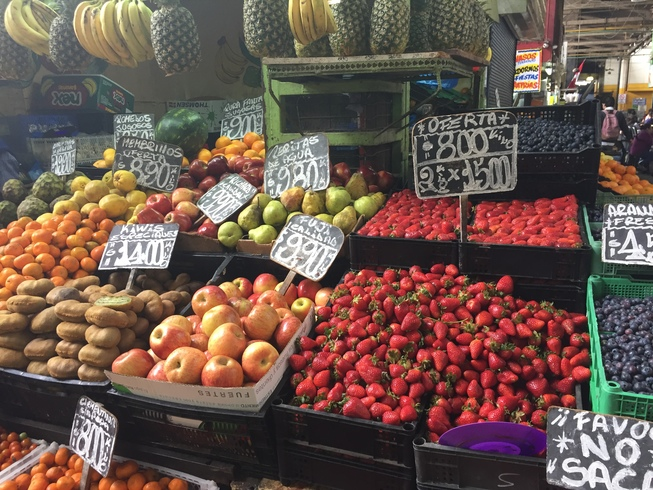manzana: (165, 346, 206, 385), (200, 356, 242, 391), (150, 324, 194, 357), (240, 341, 279, 377), (112, 349, 155, 380), (202, 305, 240, 340), (208, 324, 248, 357), (245, 302, 278, 338), (192, 285, 227, 317), (275, 316, 303, 345), (252, 272, 278, 300), (258, 290, 284, 312), (289, 297, 311, 321), (220, 281, 241, 305), (232, 277, 252, 299), (299, 278, 317, 301), (314, 289, 333, 307)
platano: (73, 1, 156, 69), (4, 1, 63, 57), (287, 1, 339, 46)
precio: (411, 114, 518, 196), (549, 411, 653, 487), (272, 214, 343, 280), (67, 394, 118, 475), (262, 137, 328, 196), (113, 136, 181, 193), (101, 223, 175, 269), (602, 203, 653, 262), (199, 174, 255, 224), (219, 97, 264, 142), (110, 114, 156, 146), (50, 138, 75, 175)
